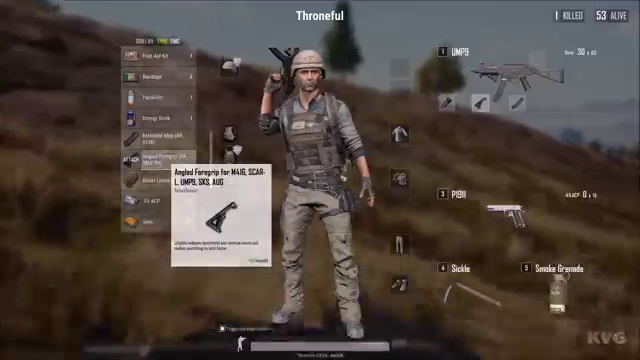Player: (258, 51, 384, 326)
